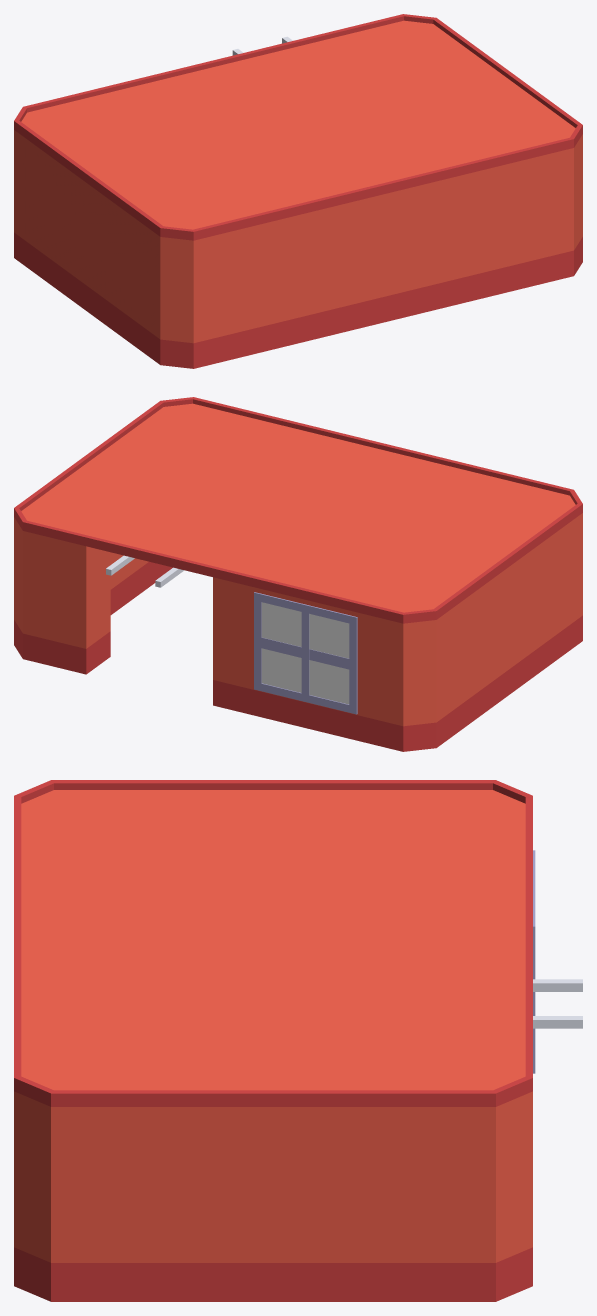
File: Factory.fbx
The picture shows the model from 3 angles, top to bottom: view 1: azimuth 30°, elevation 25°; view 2: azimuth 150°, elevation 25°; view 3: azimuth 270°, elevation 25°; orthographic projection. The views are drawn at different scales.
Parts seen in each view (by area): view 1: mergedBlocks; view 2: mergedBlocks; view 3: mergedBlocks.
Boxes of the visible parts, <box> form: mergedBlocks: <box>14,14,582,368</box>; mergedBlocks: <box>14,397,582,751</box>; mergedBlocks: <box>14,780,582,1301</box>.
Bounding box in the file's own units: 100 × 31 × 76.73.
